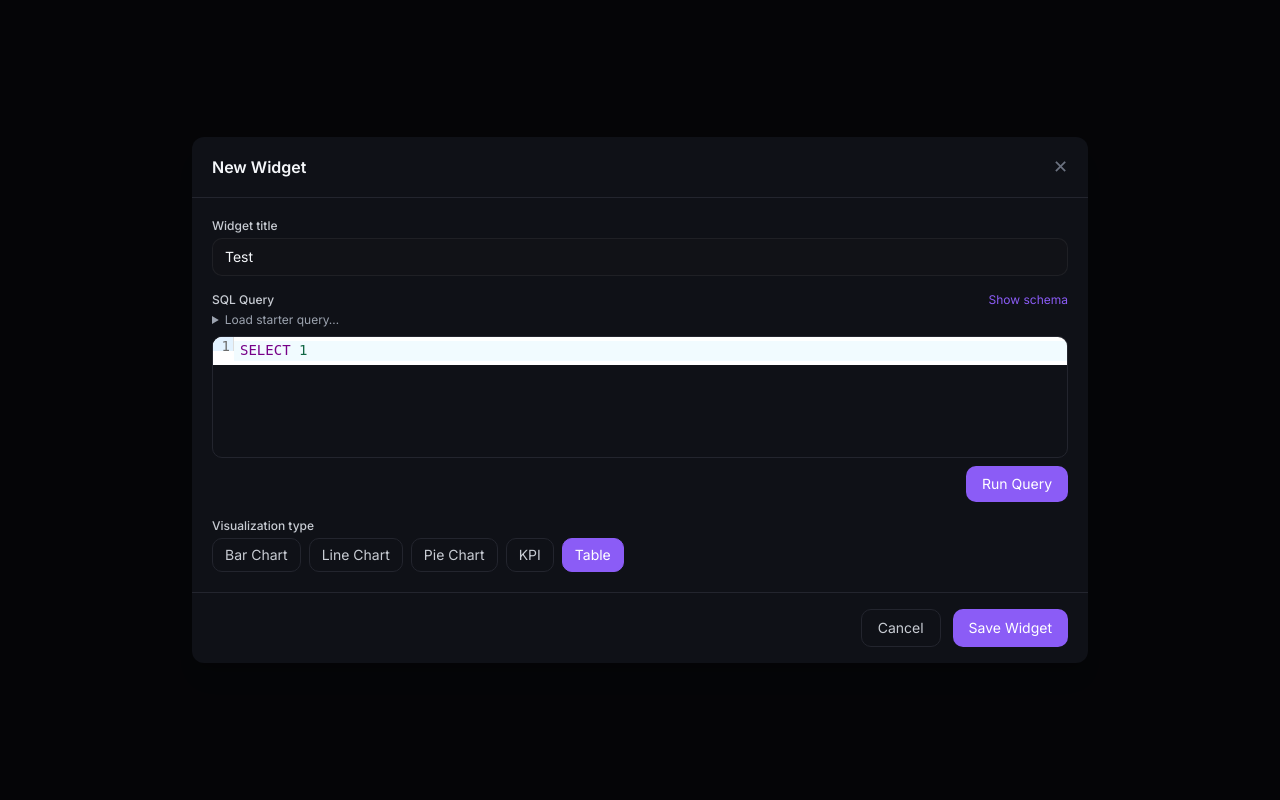
Test case: WidgetEditor › handles preview success
This screenshot has width=1280, height=800.
Click the button "Run Query" at {"x": 1017, "y": 484}, box [966, 466, 1068, 502]
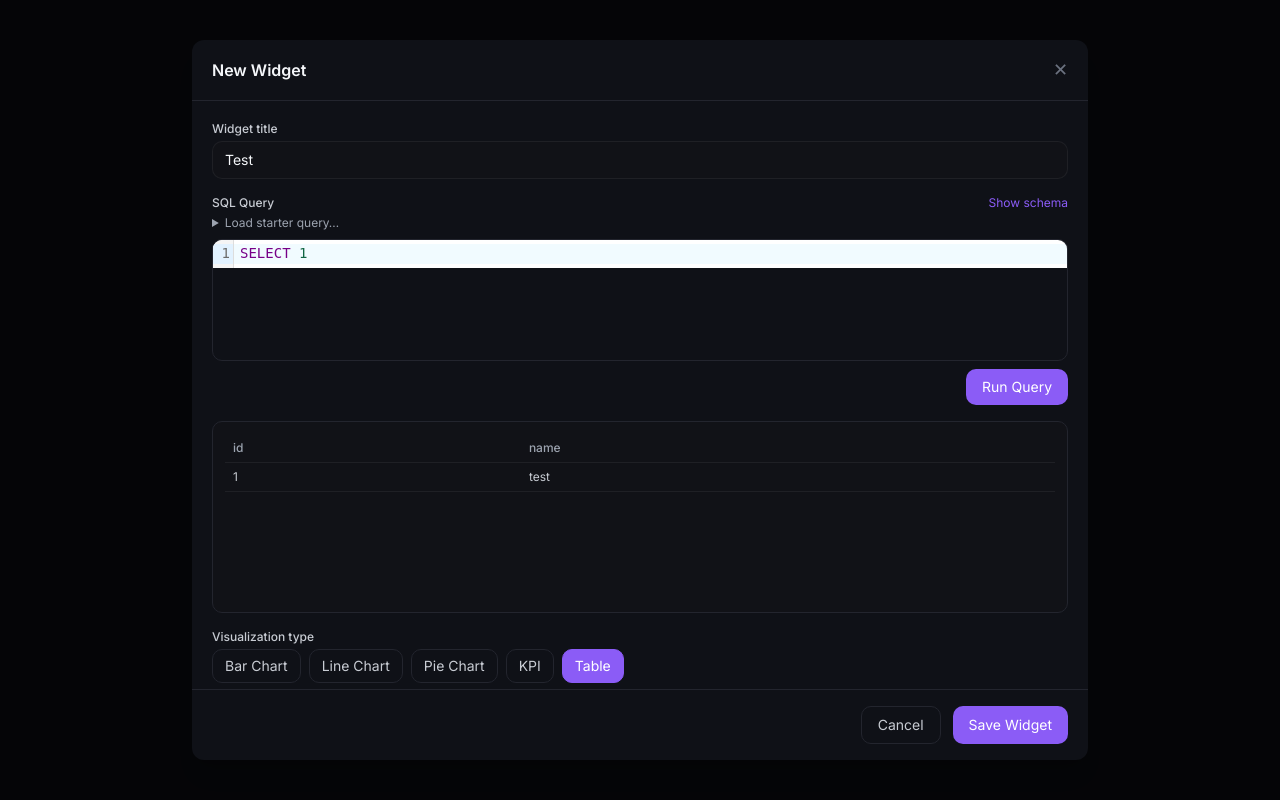
Expected: the text "test" is shown, [521, 462, 1055, 492]
